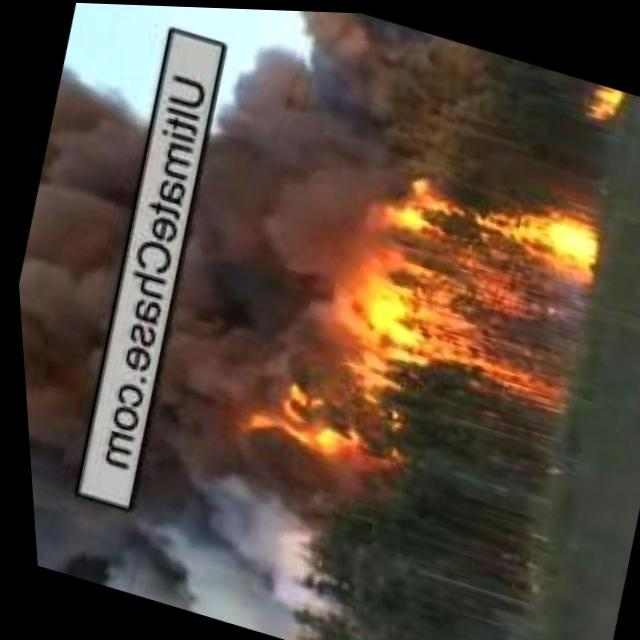fire: (327, 154, 615, 410), (218, 376, 390, 476), (580, 78, 628, 122)
